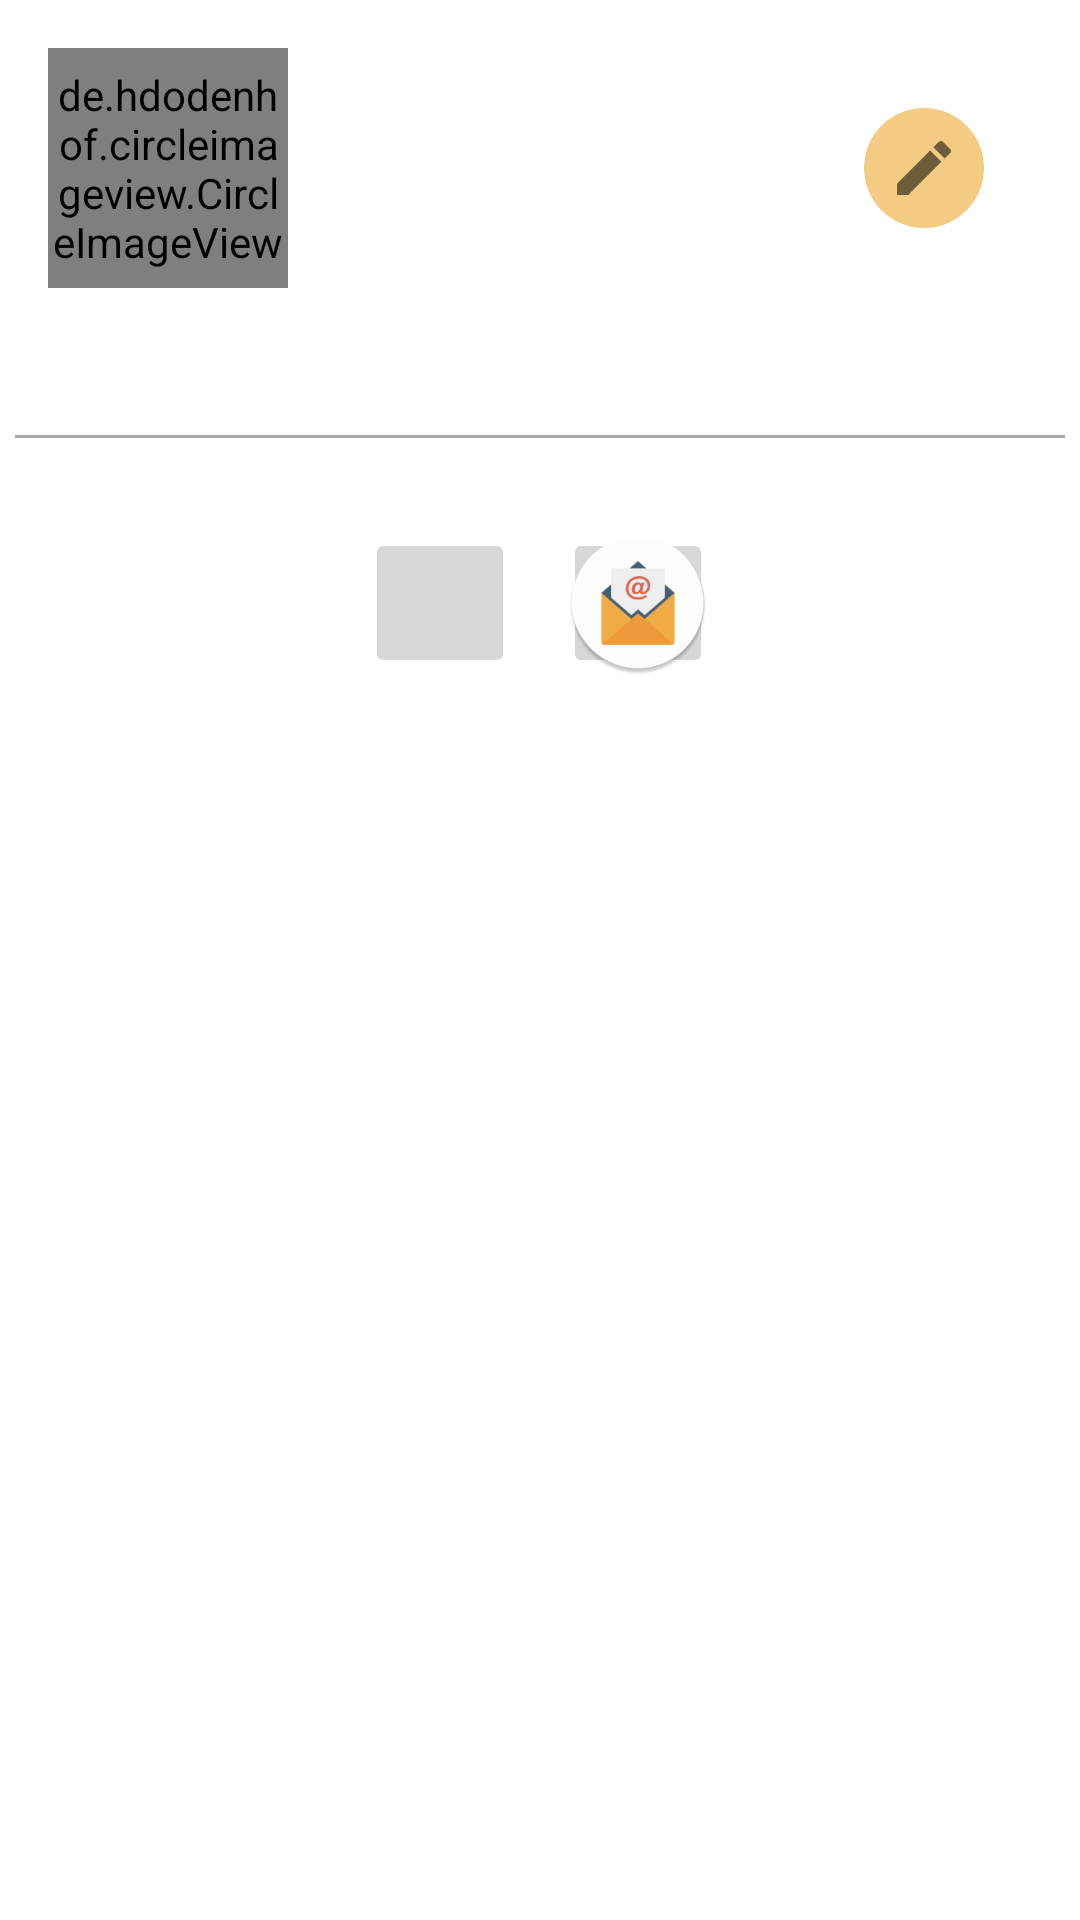

Named icons in this screenshot (1080×1920) and their bounding boxes, rect(x1, y1, x2, y2):
edit: rect(864, 108, 984, 228)
email round: rect(573, 546, 705, 672)
